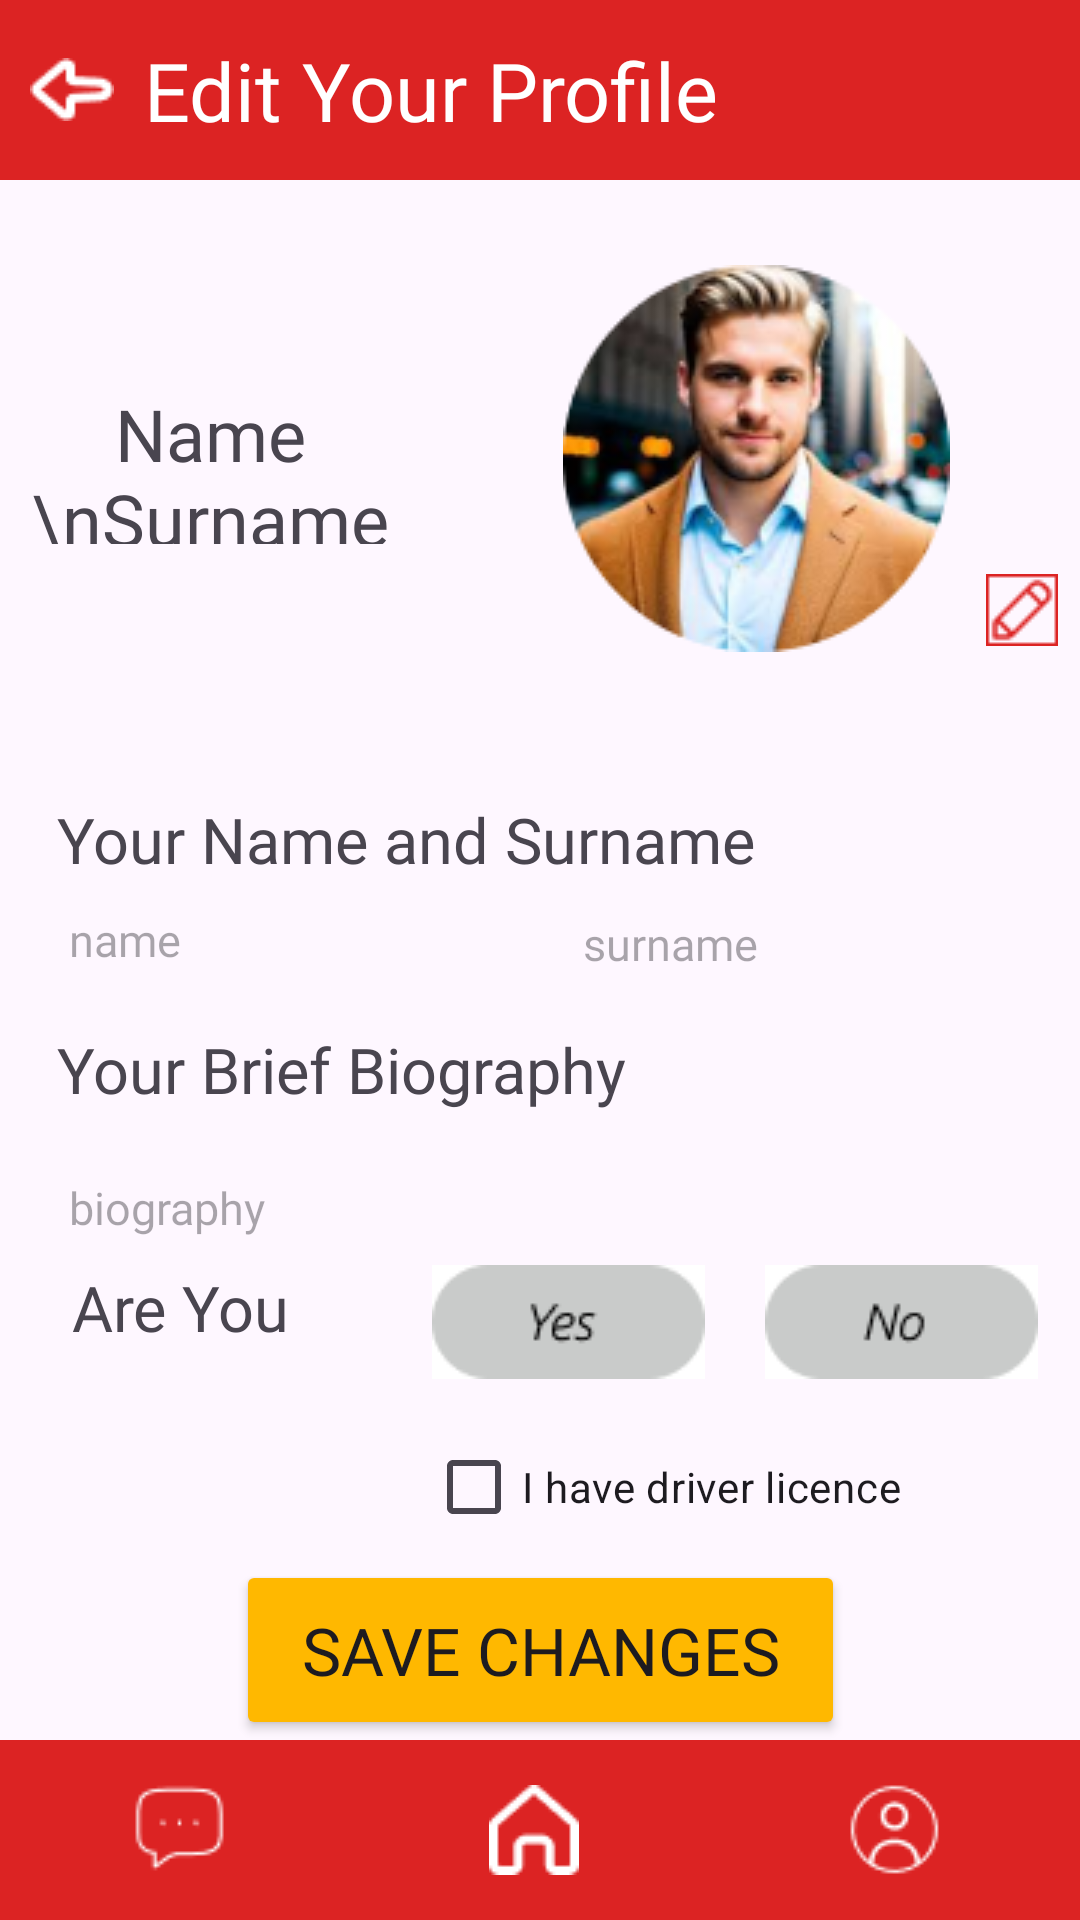

Point at icon controls on the screen. Image size 1080px x 1920px, points as point (x, y).
chat: point (179, 1828)
edit symbol: point (1022, 610)
profile: point (894, 1829)
